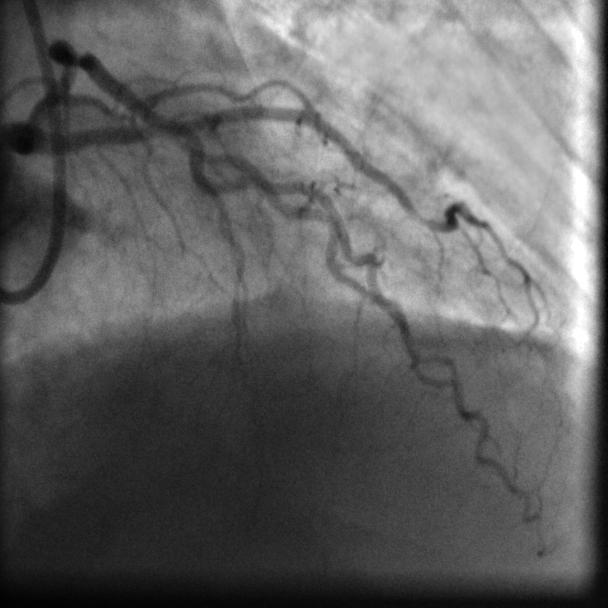Stenosis: (56, 32, 98, 79)
